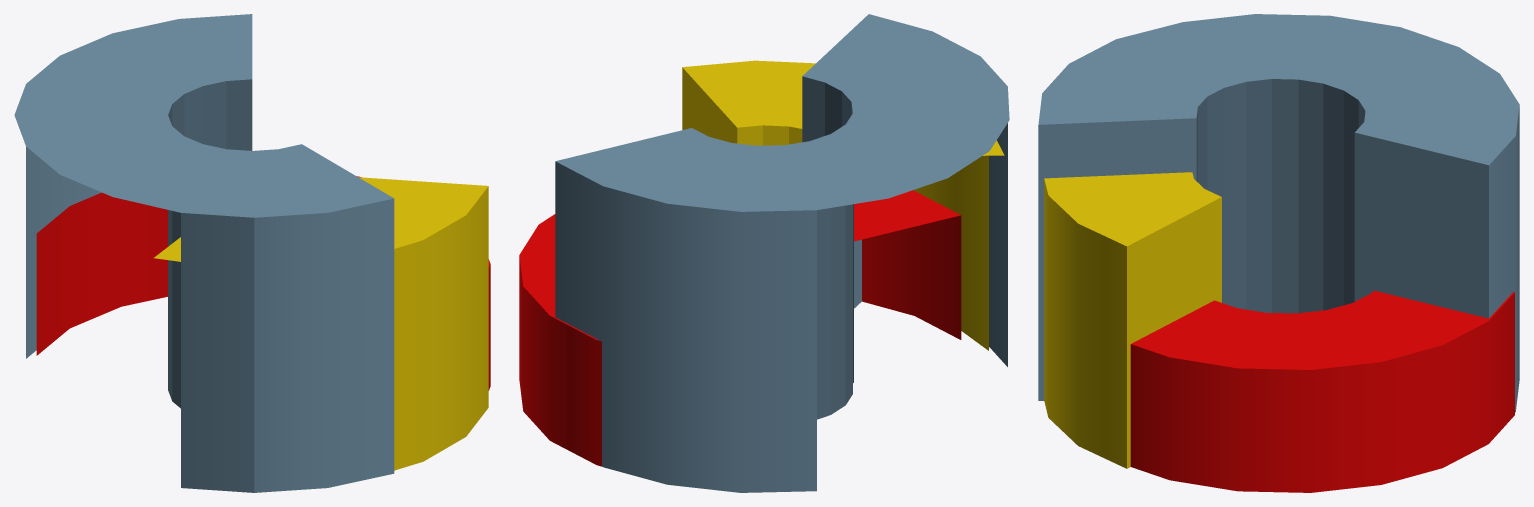
The model's file is Mutual funds.fbx.
The picture shows the model from 3 angles, left to right: view 1: azimuth 30°, elevation 25°; view 2: azimuth 150°, elevation 25°; view 3: azimuth 270°, elevation 25°; orthographic projection. The views are drawn at different scales.
Visible parts, largest first — view 1: polySurface19, polySurface20, polySurface18; view 2: polySurface19, polySurface18, polySurface20; view 3: polySurface19, polySurface18, polySurface20.
Boxes of the visible parts, x1=… form: polySurface19: x1=14, y1=14, x2=394, y2=492; polySurface20: x1=153, y1=177, x2=488, y2=470; polySurface18: x1=36, y1=176, x2=490, y2=390; polySurface19: x1=555, y1=14, x2=1009, y2=492; polySurface18: x1=519, y1=190, x2=961, y2=466; polySurface20: x1=682, y1=60, x2=1004, y2=382; polySurface19: x1=1038, y1=14, x2=1519, y2=412; polySurface18: x1=1130, y1=290, x2=1514, y2=492; polySurface20: x1=1044, y1=172, x2=1221, y2=468.
Bounding box in the file's own units: 6.33 × 4.02 × 6.34.
